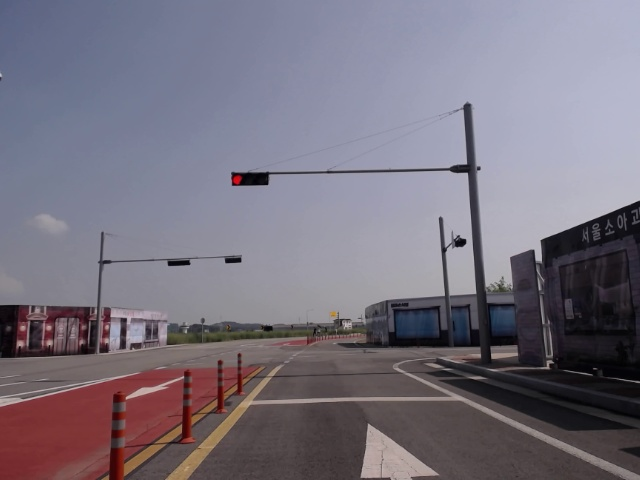red_3: (231, 173, 267, 186)
